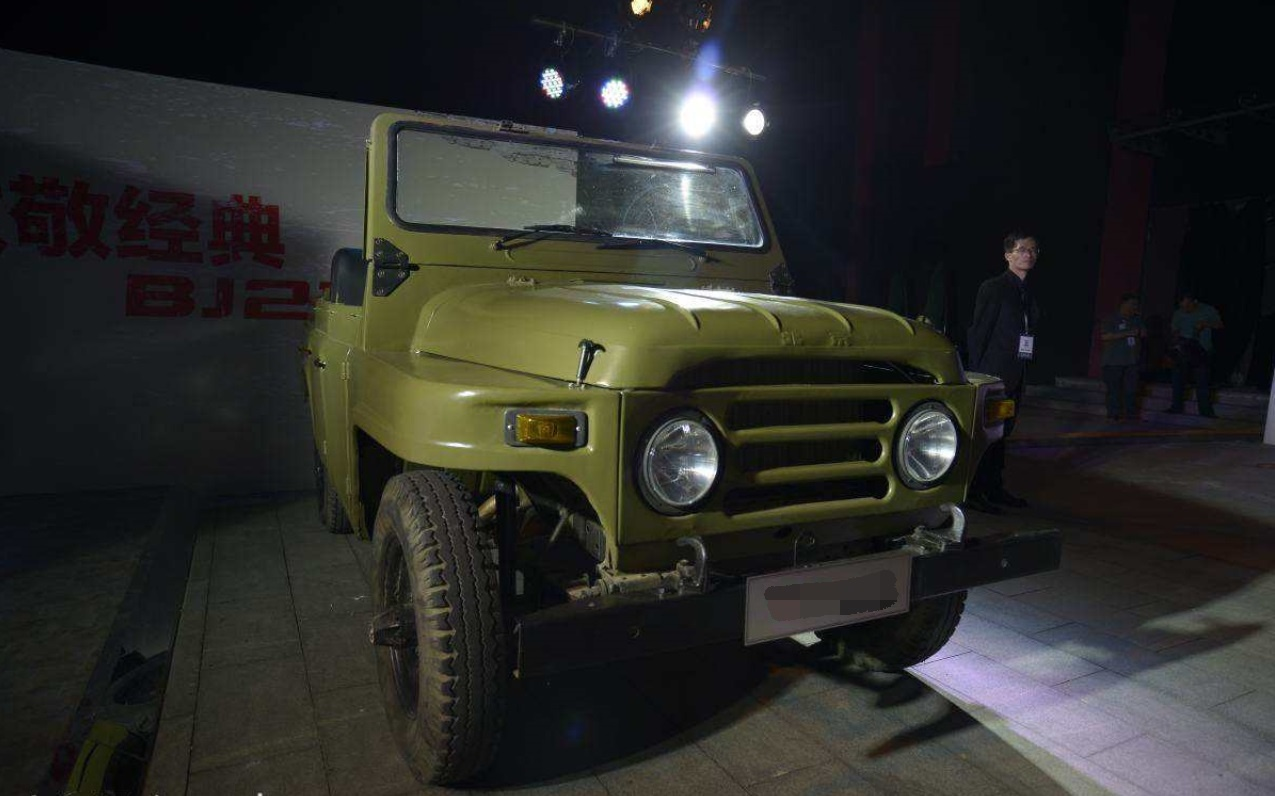jeep: (275, 95, 989, 787)
